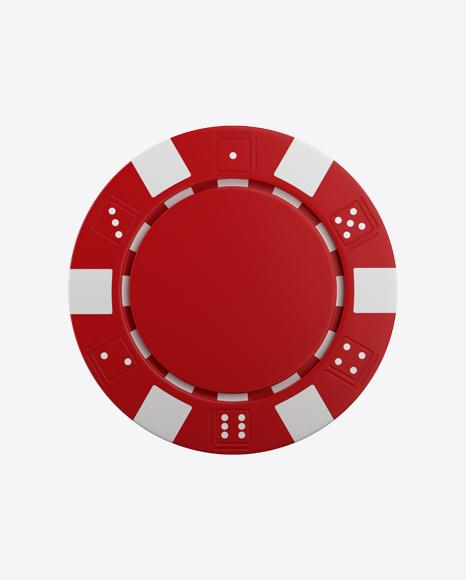chip-red: (69, 126, 396, 453)
